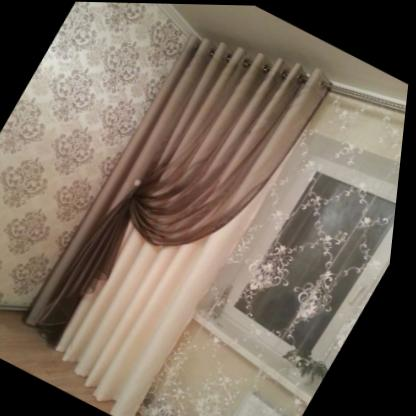Curtains: (30, 38, 408, 416)
